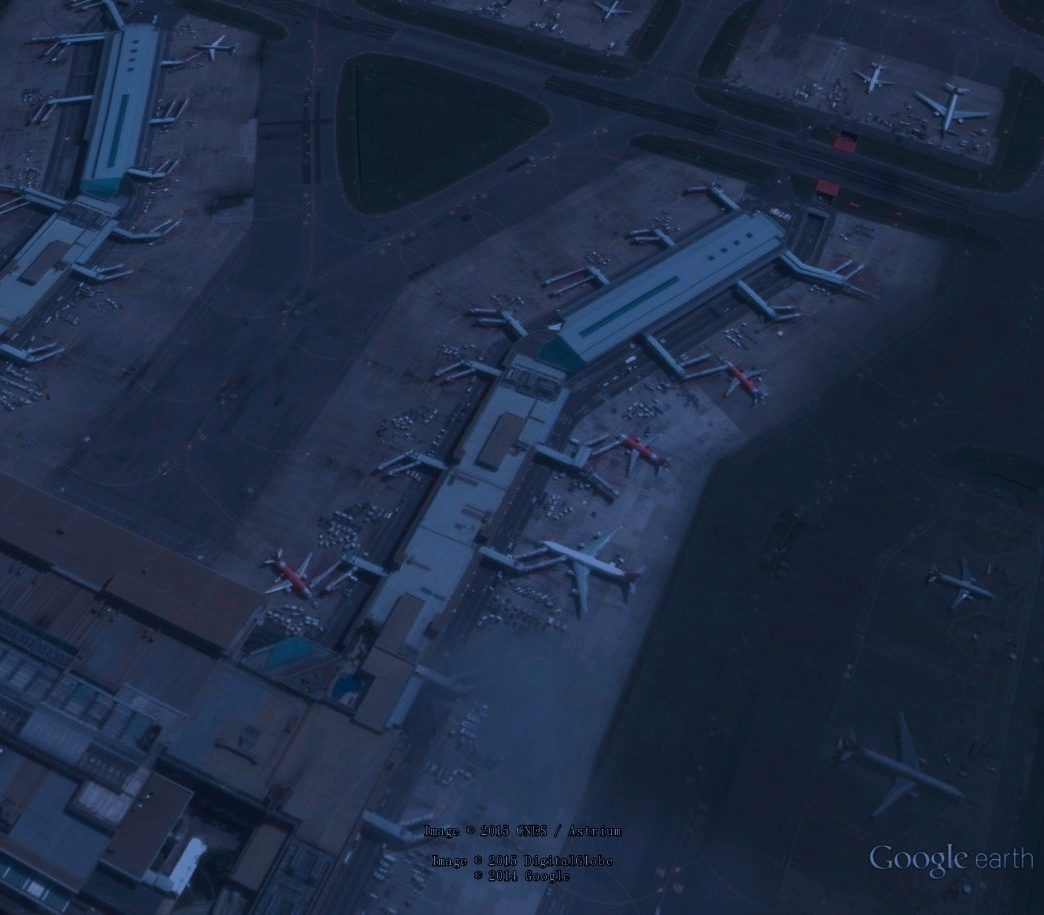aircraft: (828, 705, 972, 826), (538, 528, 652, 622), (921, 550, 1000, 613), (912, 79, 996, 135), (255, 543, 325, 606), (615, 429, 675, 483), (721, 360, 774, 411), (853, 58, 897, 100), (190, 31, 241, 66), (588, 1, 637, 22)
